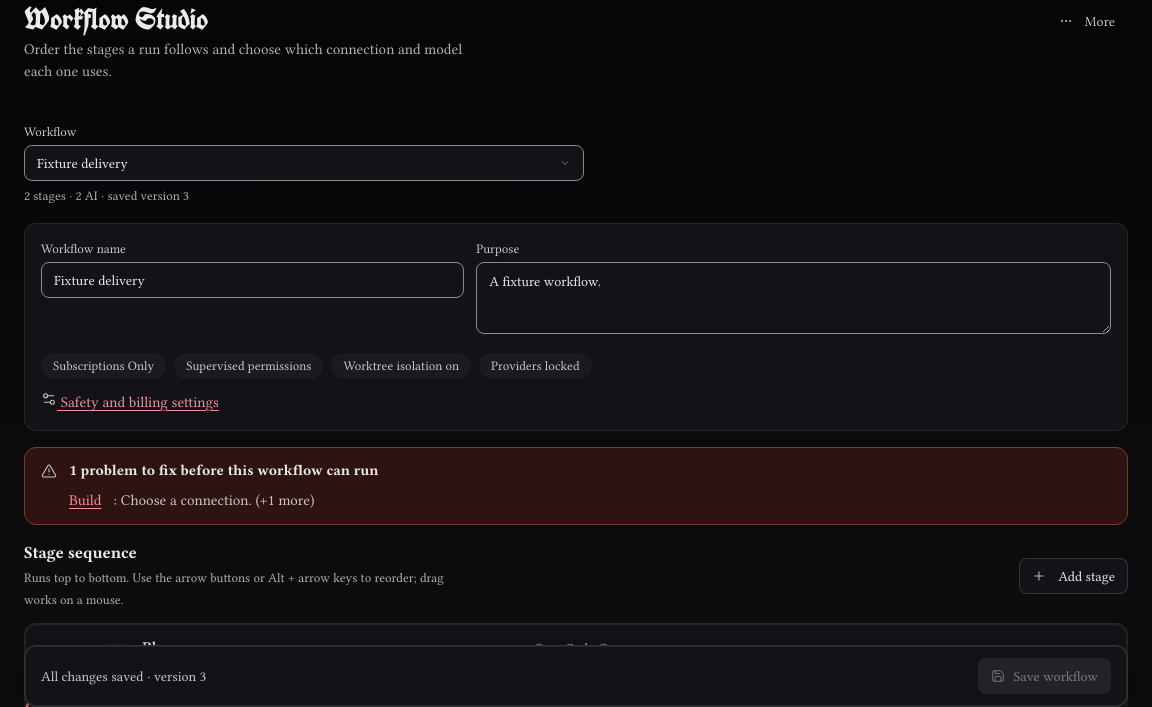
it: Add stage › replaces Add reviewer stage with a grouped menu that includes a direct Decision gate choice
This screenshot has width=1152, height=707.
Click the heading "Add stage": (1074, 576) [1019,558,1128,594]
(page scrolled)
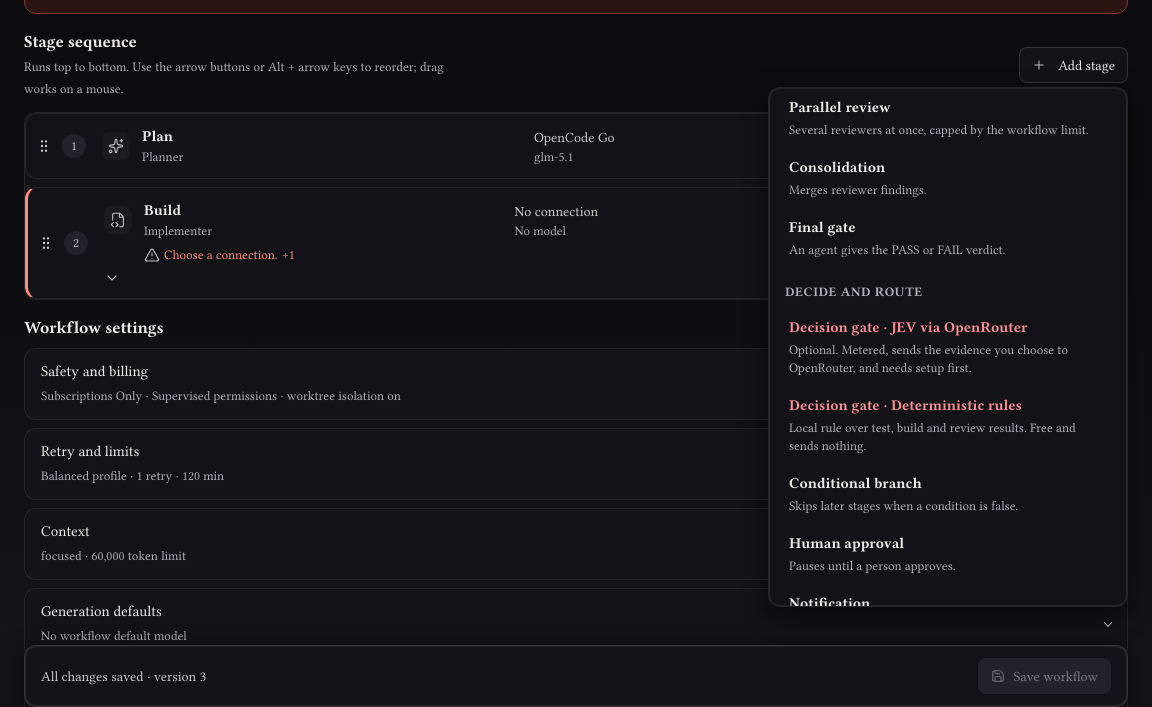
Now the number of buttons "Decision gate" is 2, box [777,309,1119,385]; [777,387,1119,463]
Now the button "Decision gate · JEV via OpenRouter" is shown, box [777,309,1119,385]
